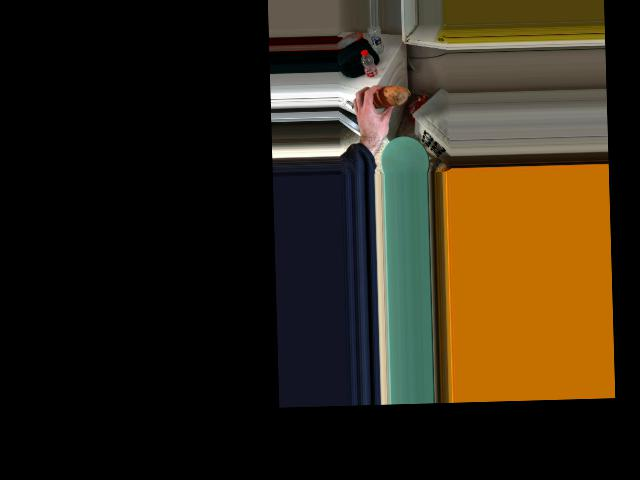sweet_potato: (363, 89, 399, 119)
